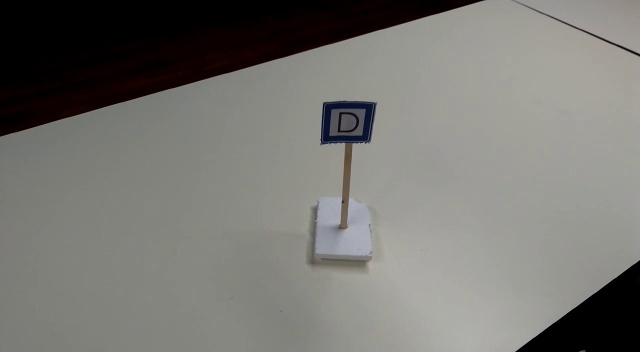durak: (320, 99, 373, 148)
